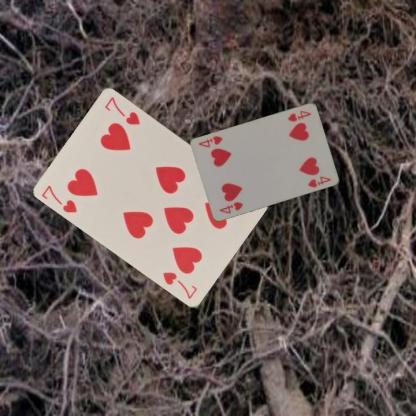4h: (217, 199, 244, 215), (286, 108, 312, 122)
7h: (39, 181, 79, 214)
